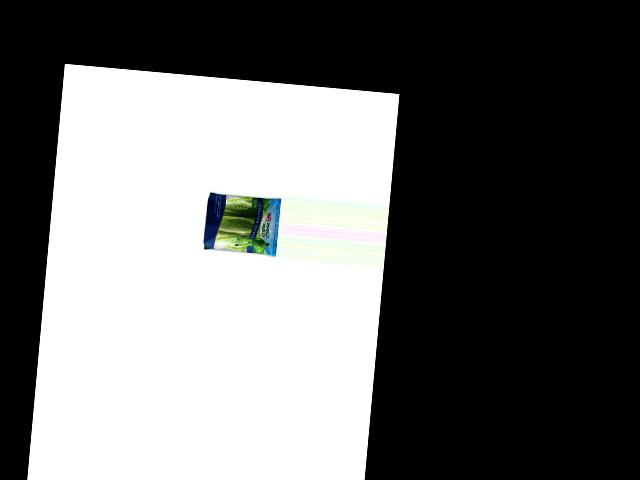lettuce: (199, 191, 277, 257)
